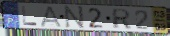2: (87, 7, 105, 30), (134, 10, 150, 30)
A: (40, 5, 63, 28)
L: (21, 5, 39, 27)
N: (64, 5, 85, 30)
R: (112, 8, 132, 29)
